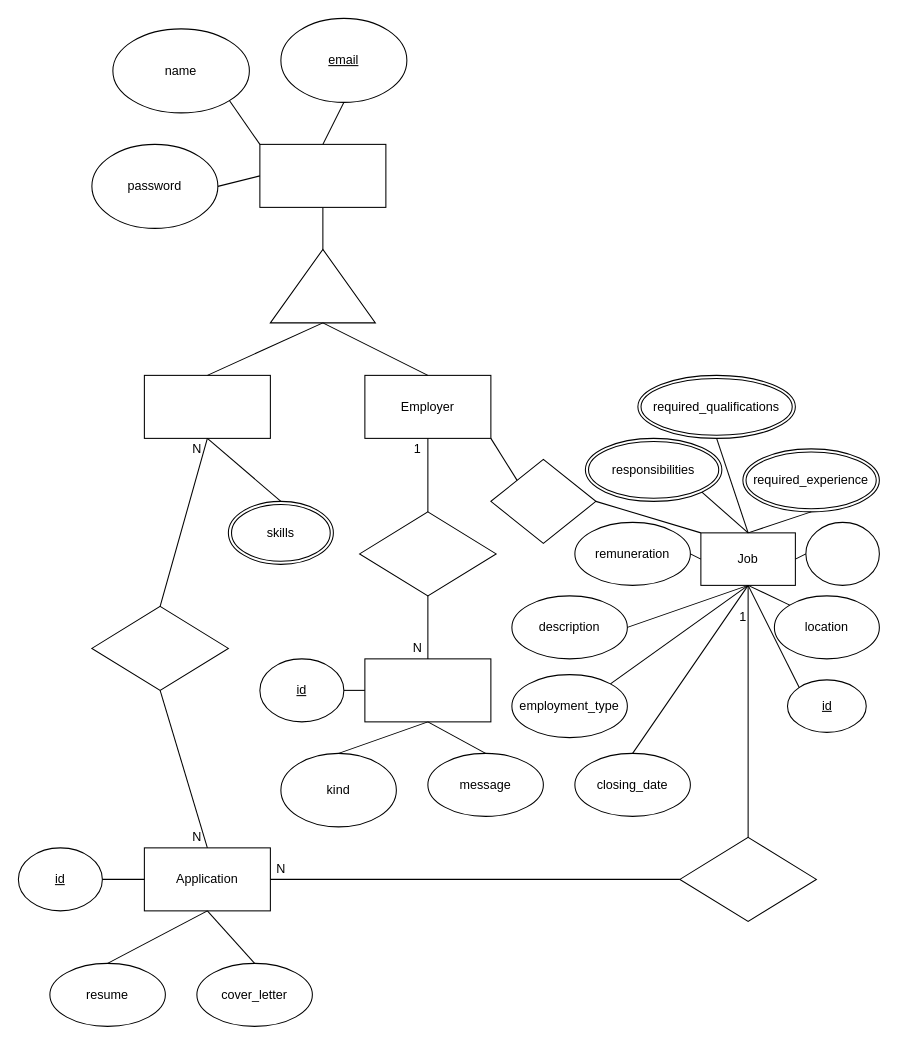
The diagram is 898 pixels wide and 1045 high, and some of its shapes have lost their labels. Here are the shapes that lost their labels. From the top down, the centre of each, then its label:
At (322,175): "User".
At (322,285): "IsA".
At (206,406): "JobSeeker".
At (543,500): "Posts".
At (427,553): "Sends".
At (842,553): "job_title".
At (159,647): "Applies".
At (427,690): "Offer".
At (747,878): "Matches".
